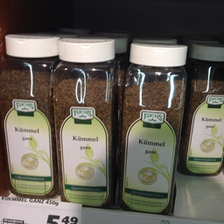spices: (116, 41, 187, 214), (53, 36, 118, 209), (1, 32, 58, 198), (182, 42, 222, 178)
